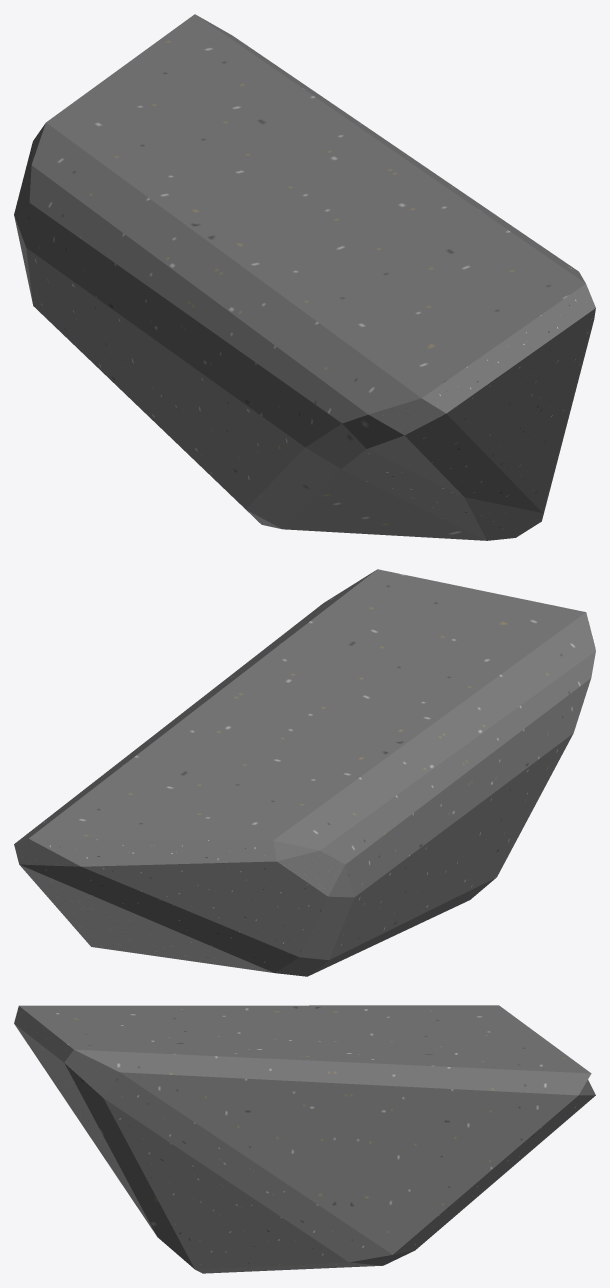
The model's file is portalBase.fbx.
The picture shows the model from 3 angles, top to bottom: view 1: azimuth 30°, elevation 25°; view 2: azimuth 150°, elevation 25°; view 3: azimuth 270°, elevation 25°; orthographic projection. The views are drawn at different scales.
Visible parts, largest first — view 1: Cube; view 2: Cube; view 3: Cube.
Part boxes in pixels (x1,y1,x2,y2): Cube: (14,14,595,540); Cube: (14,569,595,976); Cube: (14,1005,595,1273).
Bounding box in the file's own units: 273 × 241 × 592.
